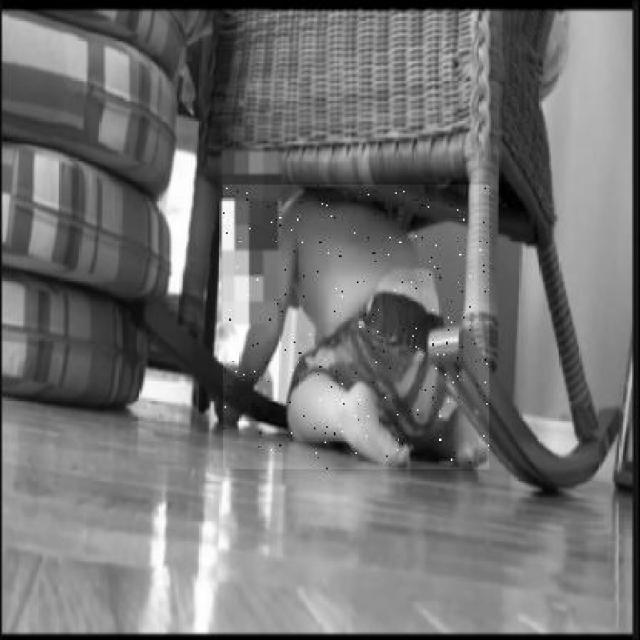child: (223, 185, 489, 469)
